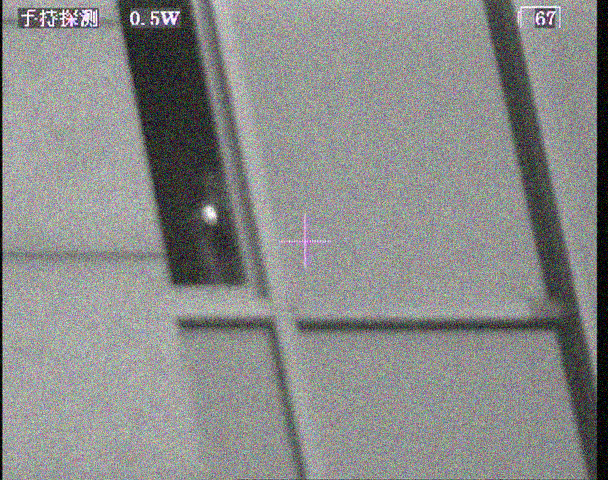my: (199, 204, 220, 227)
